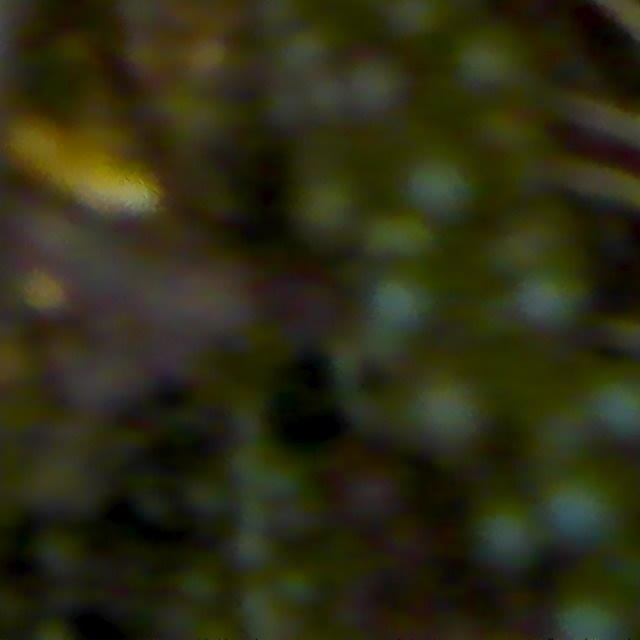SeaGrape: (400, 369, 492, 461), (538, 460, 621, 550), (340, 45, 416, 130), (490, 205, 575, 280), (473, 105, 550, 179), (291, 170, 363, 247), (513, 260, 581, 340), (455, 33, 528, 99), (474, 508, 540, 574), (367, 271, 434, 334), (423, 382, 477, 455), (273, 22, 338, 82), (408, 165, 479, 219), (552, 591, 631, 639), (362, 215, 438, 264), (345, 463, 402, 522), (589, 379, 640, 441), (380, 0, 448, 43), (33, 527, 86, 580), (30, 619, 73, 640)
